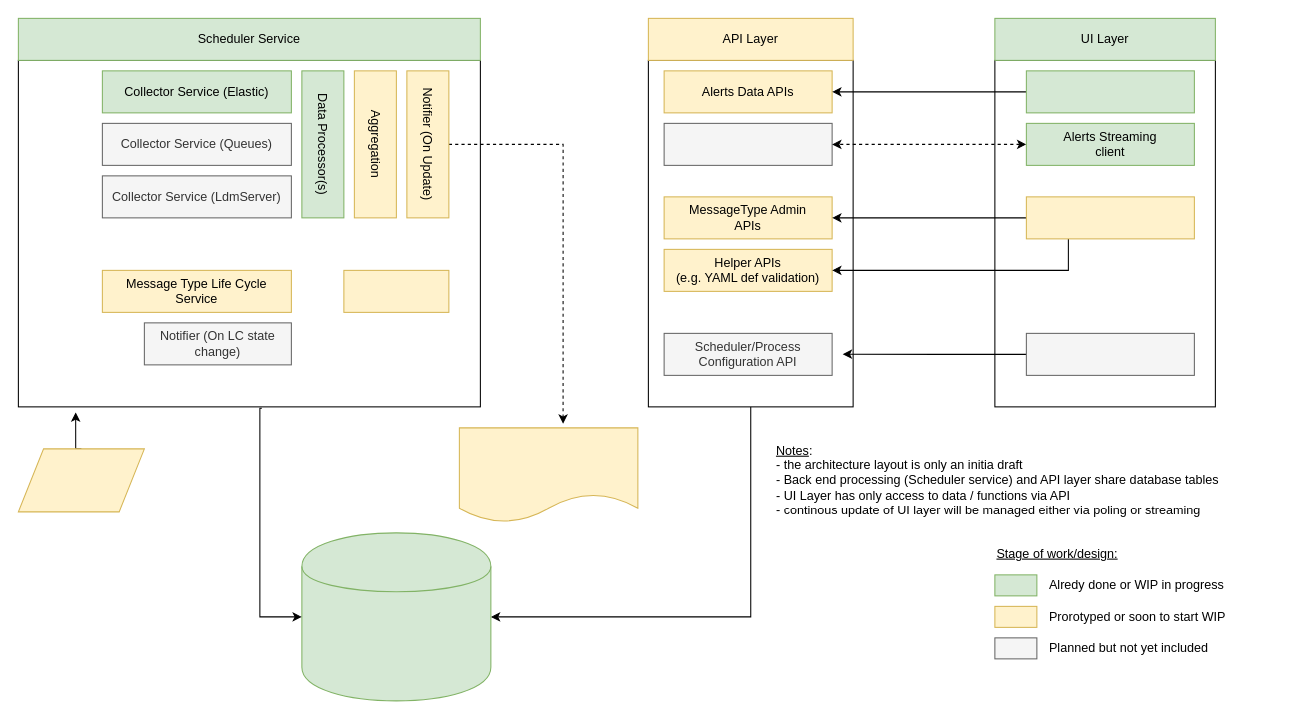
The diagram is 1297 pixels wide and 719 high, and some of its shapes have lost their labels. Here are the shapes that lost their labels. From the top down, the box of each, then its label:
(1025, 70, 1194, 113): Alert / Instance UI & Logic
(663, 122, 832, 165): Alerts Streaming APIs (e.g. SignalR)
(1025, 196, 1194, 239): MessageType / Filter Admin UI
(343, 269, 449, 312): Filter Processor
(1025, 332, 1194, 375): Scheduler/Process Configuration UI
(17, 448, 144, 512): Schedule Configuration
(458, 427, 638, 522): Notifiers - email - slack - generic MQ end point
(301, 532, 491, 701): Shared DB (Back/End & API)
